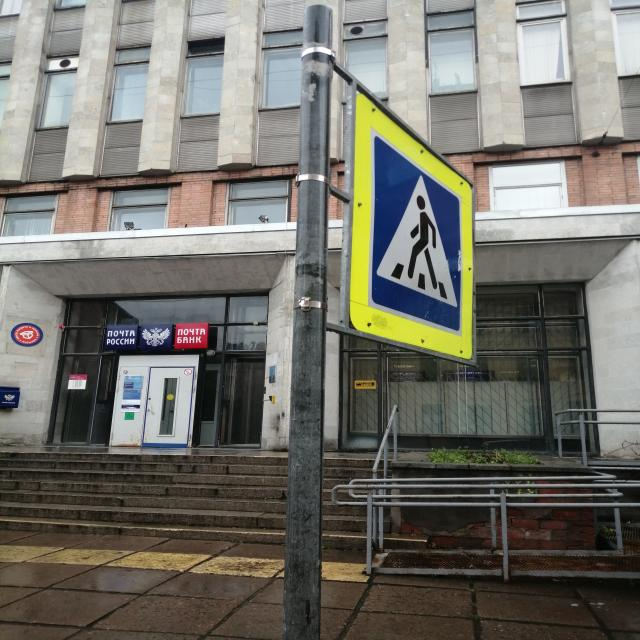road sign: (356, 90, 473, 361)
